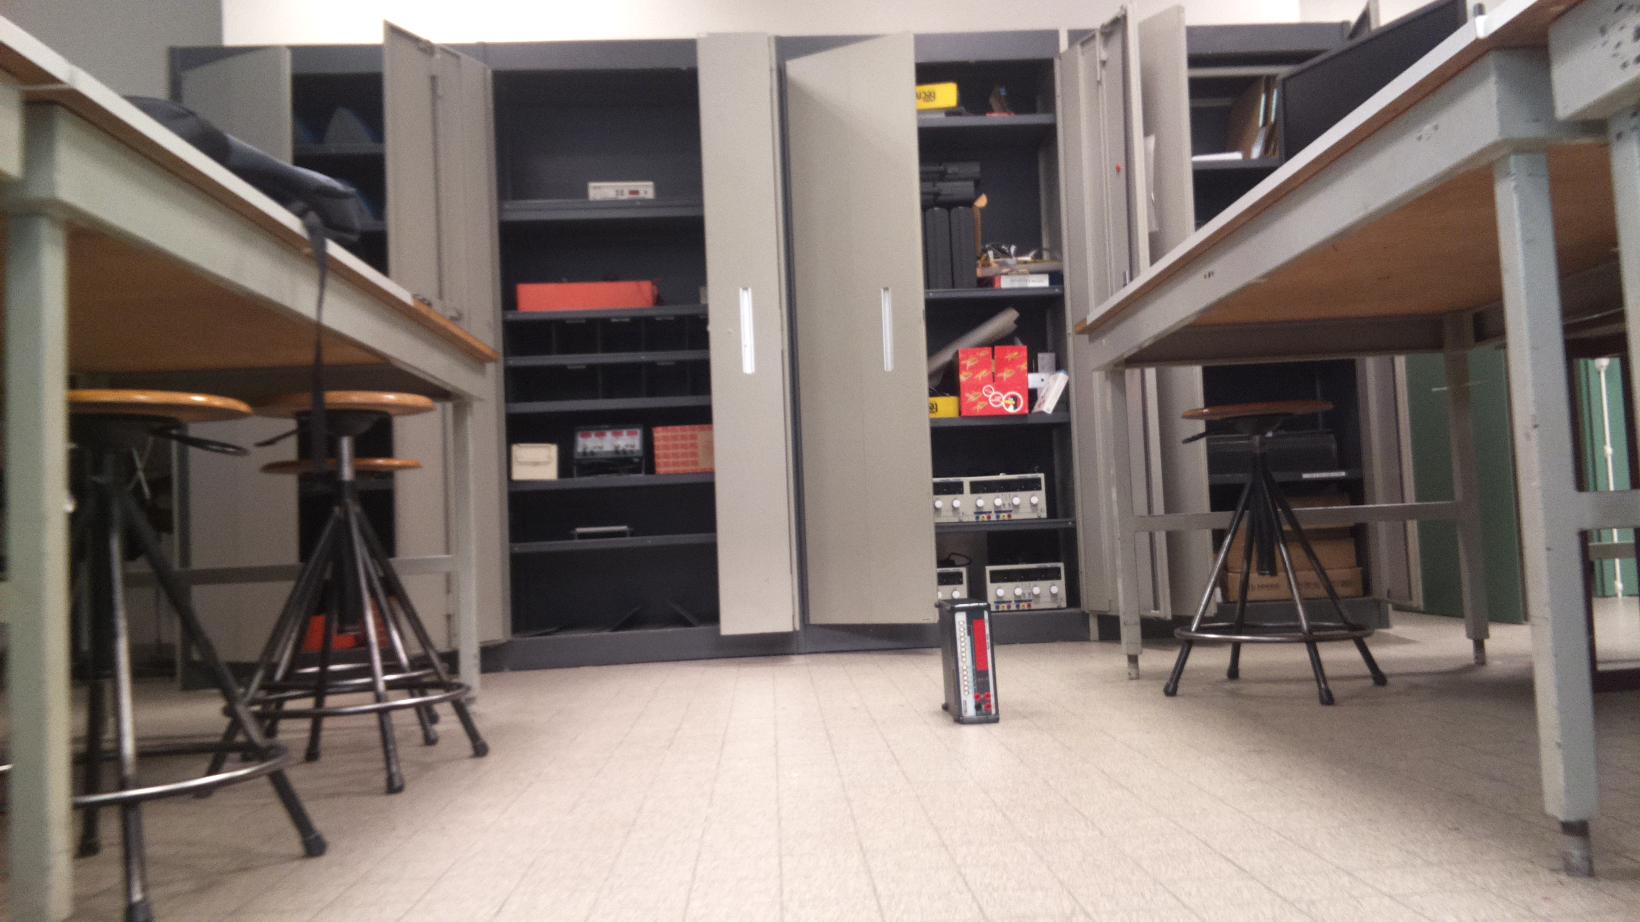medium: (937, 593, 1002, 727)
